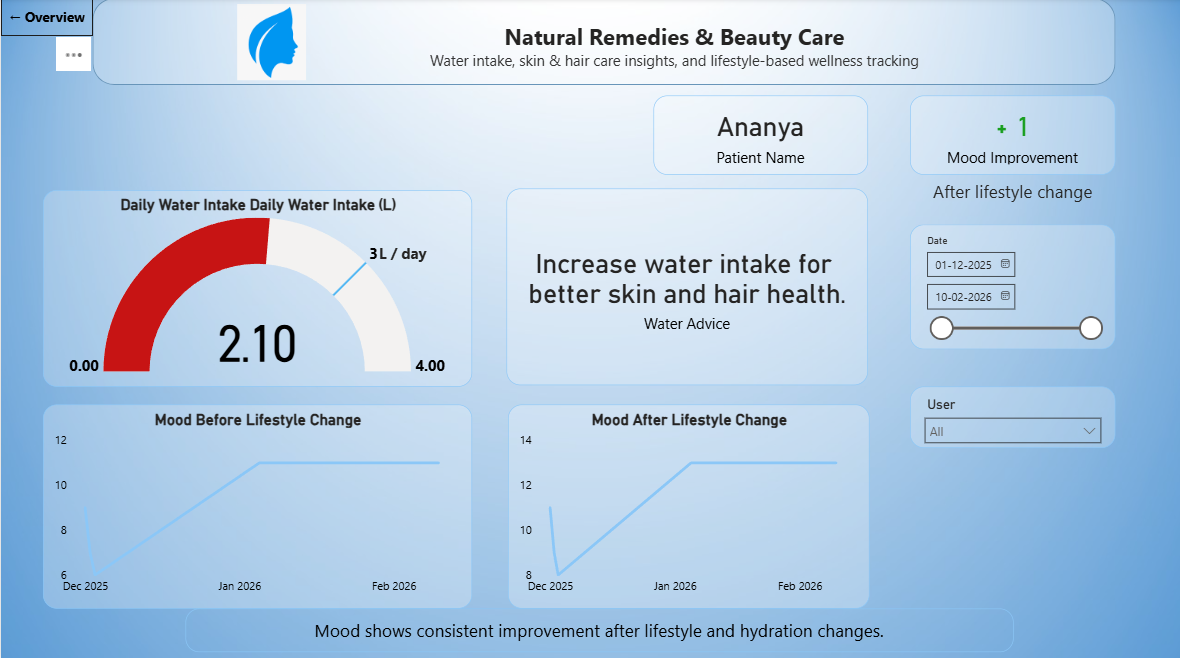

This screenshot's page, from the dashboard's own definition file:
{"tool":"powerbi","page":{"name":"natural&beatycare","canvas":[1280,720],"ordinal":10},"visuals":[{"type":"gauge","title":"Daily Water Intake Daily Water Intake (L)","fields":{"Y":["Water Intake.Avg Water Intake"],"TargetValue":["Water Intake.Water Target"]},"box":[45.5,208.2,465.2,213.1],"z":0},{"type":"card","fields":{"Values":["Water Intake.Water Doctor Note"]},"box":[548.1,206.6,392,213.1],"z":1000},{"type":"card","fields":{"Values":["Min(Hair & Skin Remedies.User)"]},"box":[707.5,105.7,232.6,86.2],"z":2000},{"type":"lineChart","title":"Mood Before Lifestyle Change","fields":{"Category":["Mood Scores.Date"],"Y":["Sum(Mood Scores.Mood_Before)"]},"box":[45.5,440.8,465.2,221.2],"z":3000},{"type":"lineChart","title":"Mood After Lifestyle Change","fields":{"Category":["Mood Scores.Date"],"Y":["Sum(Mood Scores.Mood_After)"]},"box":[549.8,440.8,392,221.2],"z":4000},{"type":"card","fields":{"Values":["Appointments.Mood Improvement KPI"]},"box":[985.7,105.7,222.8,86.2],"z":5000},{"type":"slicer","fields":{"Values":["Mood Scores.Date"]},"box":[985.7,245.6,222.8,135],"z":6000},{"type":"slicer","fields":{"Values":["Mood Scores.User"]},"box":[985.7,421.3,222.8,66.7],"z":7000},{"type":"shape","box":[99.2,0,1109.3,94.3],"z":8000},{"type":"textbox","box":[200.1,662,897.9,47.2],"z":9000},{"type":"textbox","box":[405,260.2,69.9,39],"z":10000},{"type":"textbox","box":[985.7,191.9,222.8,40.7],"z":11000},{"type":"image","box":[252.1,6.5,83,83],"z":12000},{"type":"actionButton","box":[0,0,100,40],"z":13000},{"type":"textbox","box":[292.8,19.5,875.1,68.3],"z":14000}]}

Visuals, with their boxes on the page's 1280x720 design canvas (x1, y1, x2, y2). These are canvas units, not pixel positions in the 1180x658 screenshot, which may show the page scaled, cropped or inside an application window:
"Daily Water Intake Daily Water Intake (L)" gauge: {"x1": 46, "y1": 208, "x2": 511, "y2": 421}
card - Water Intake.Water Doctor Note: {"x1": 548, "y1": 207, "x2": 940, "y2": 420}
card - Min(Hair & Skin Remedies.User): {"x1": 708, "y1": 106, "x2": 940, "y2": 192}
"Mood Before Lifestyle Change" lineChart: {"x1": 46, "y1": 441, "x2": 511, "y2": 662}
"Mood After Lifestyle Change" lineChart: {"x1": 550, "y1": 441, "x2": 942, "y2": 662}
card - Appointments.Mood Improvement KPI: {"x1": 986, "y1": 106, "x2": 1208, "y2": 192}
slicer - Mood Scores.Date: {"x1": 986, "y1": 246, "x2": 1208, "y2": 381}
slicer - Mood Scores.User: {"x1": 986, "y1": 421, "x2": 1208, "y2": 488}
shape: {"x1": 99, "y1": 0, "x2": 1208, "y2": 94}
textbox: {"x1": 200, "y1": 662, "x2": 1098, "y2": 709}
textbox: {"x1": 405, "y1": 260, "x2": 475, "y2": 299}
textbox: {"x1": 986, "y1": 192, "x2": 1208, "y2": 233}
image: {"x1": 252, "y1": 6, "x2": 335, "y2": 90}
actionButton: {"x1": 0, "y1": 0, "x2": 100, "y2": 40}
textbox: {"x1": 293, "y1": 20, "x2": 1168, "y2": 88}
